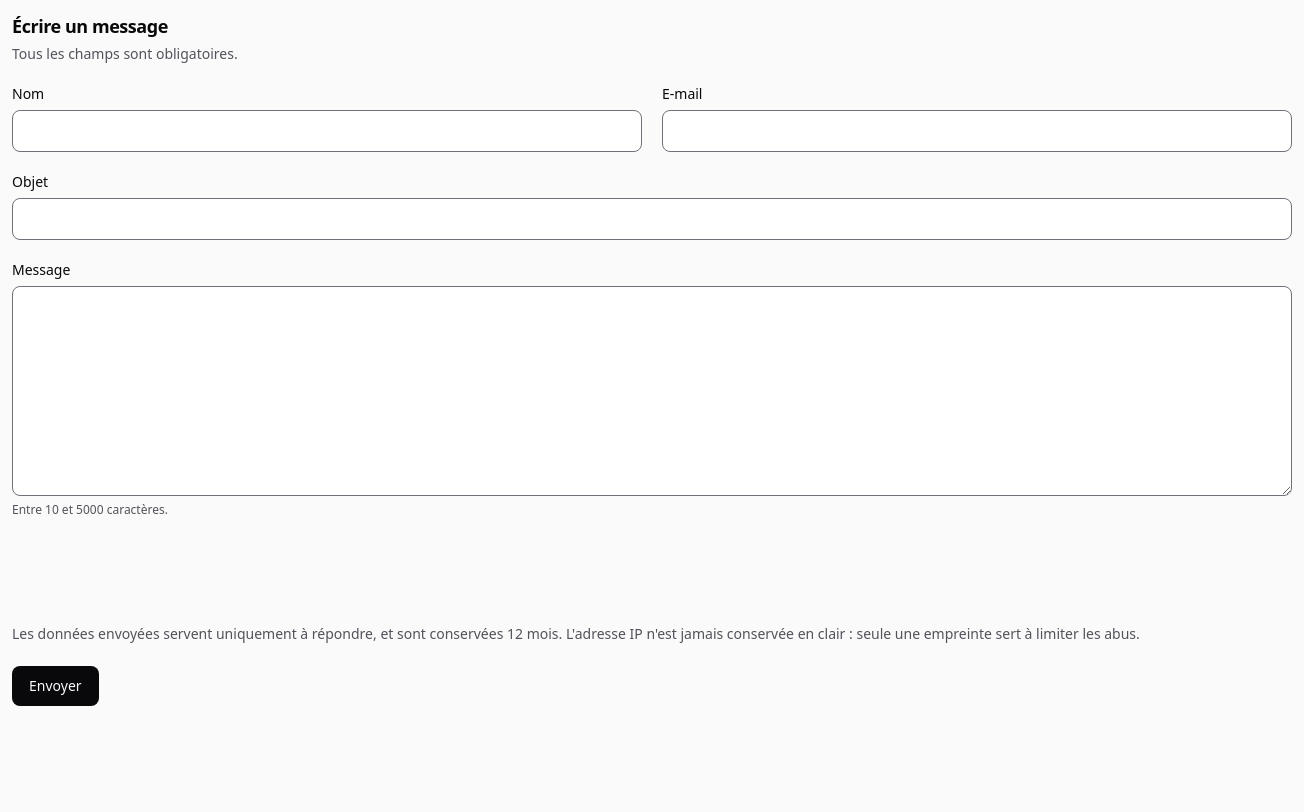
Test: ContactForm › sends the message with the page's locale and the token, then empties the form
The image size is (1304, 812).
In the field labelled "Nom": (327, 131) [12,110,642,152], type "Ada"
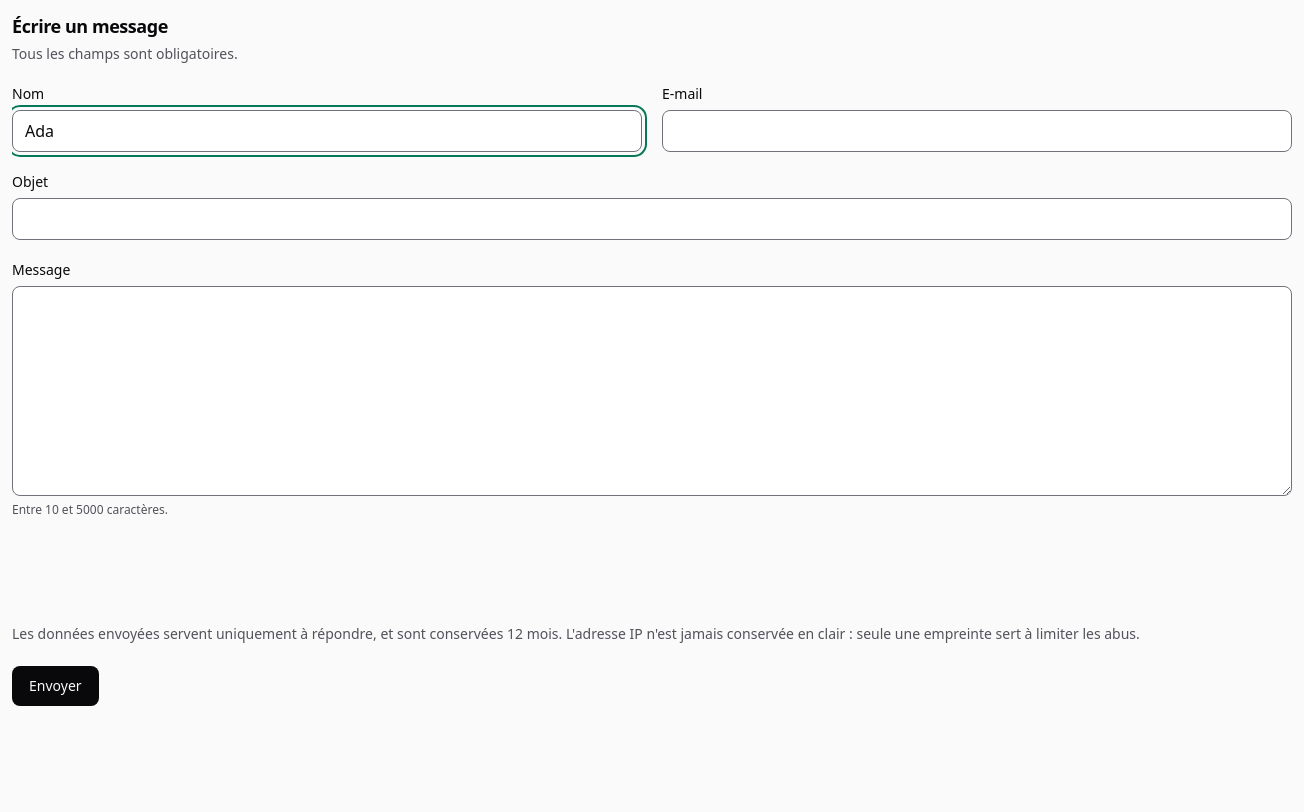
In the field labelled "E-mail": (977, 131) [662,110,1292,152], type "ada@example.com"
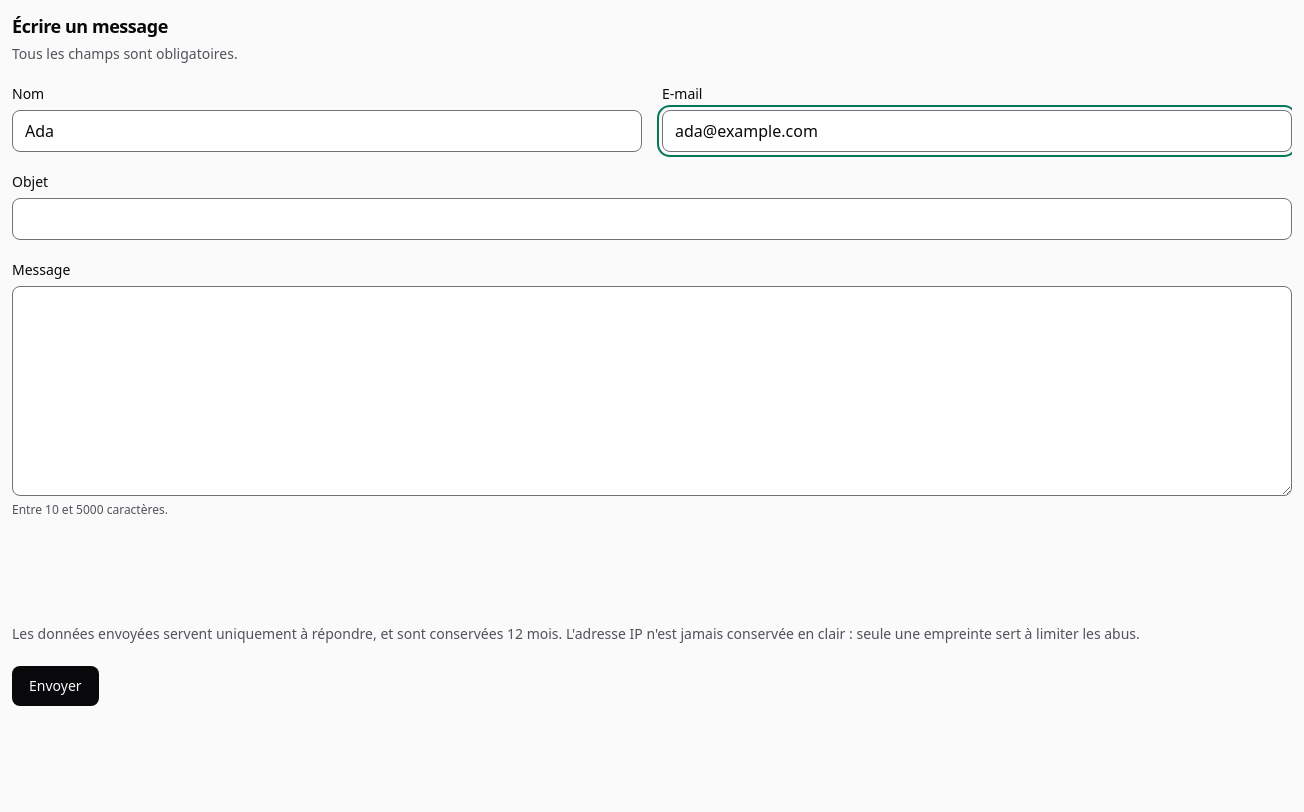
In the field labelled "Objet": (652, 219) [12,198,1292,240], type "Une mission"
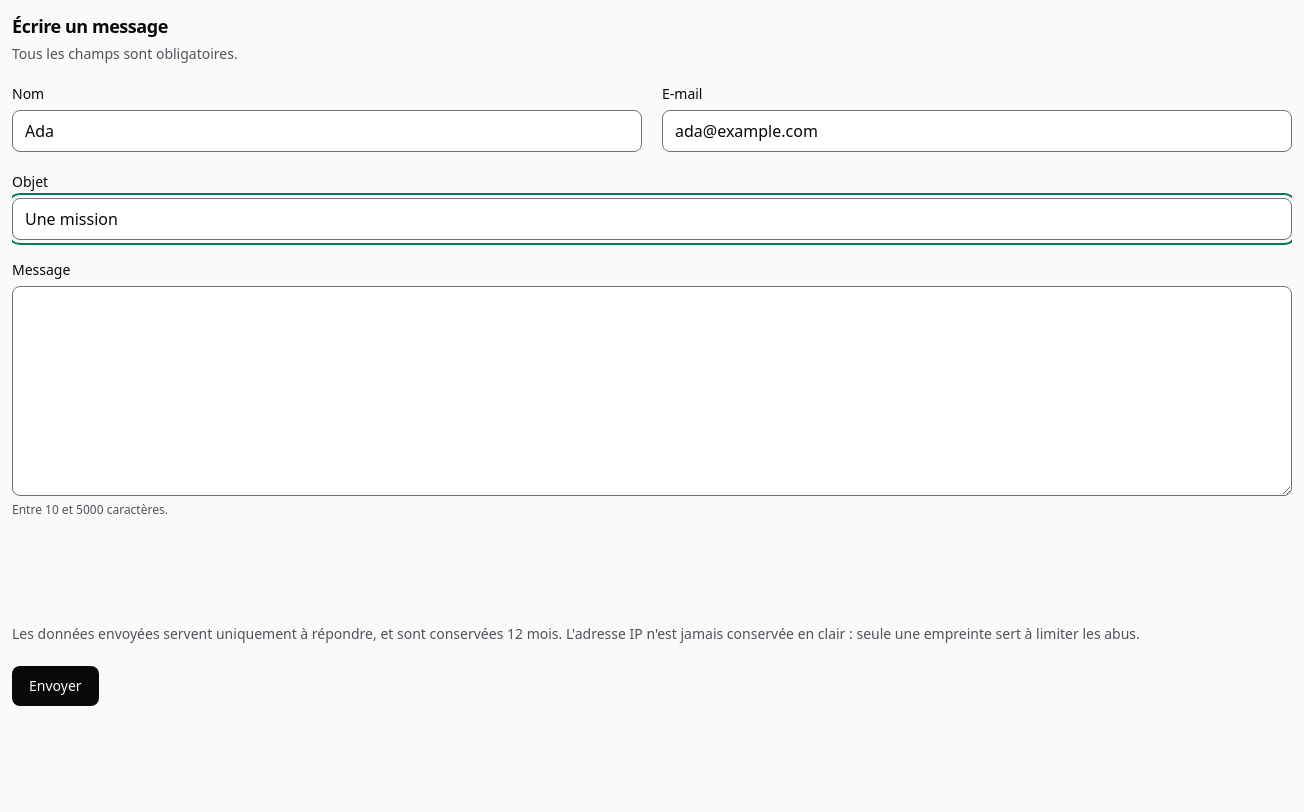
In the text box labelled "Message": (652, 391) [12,286,1292,496], type "Bonjour, j'ai un projet."
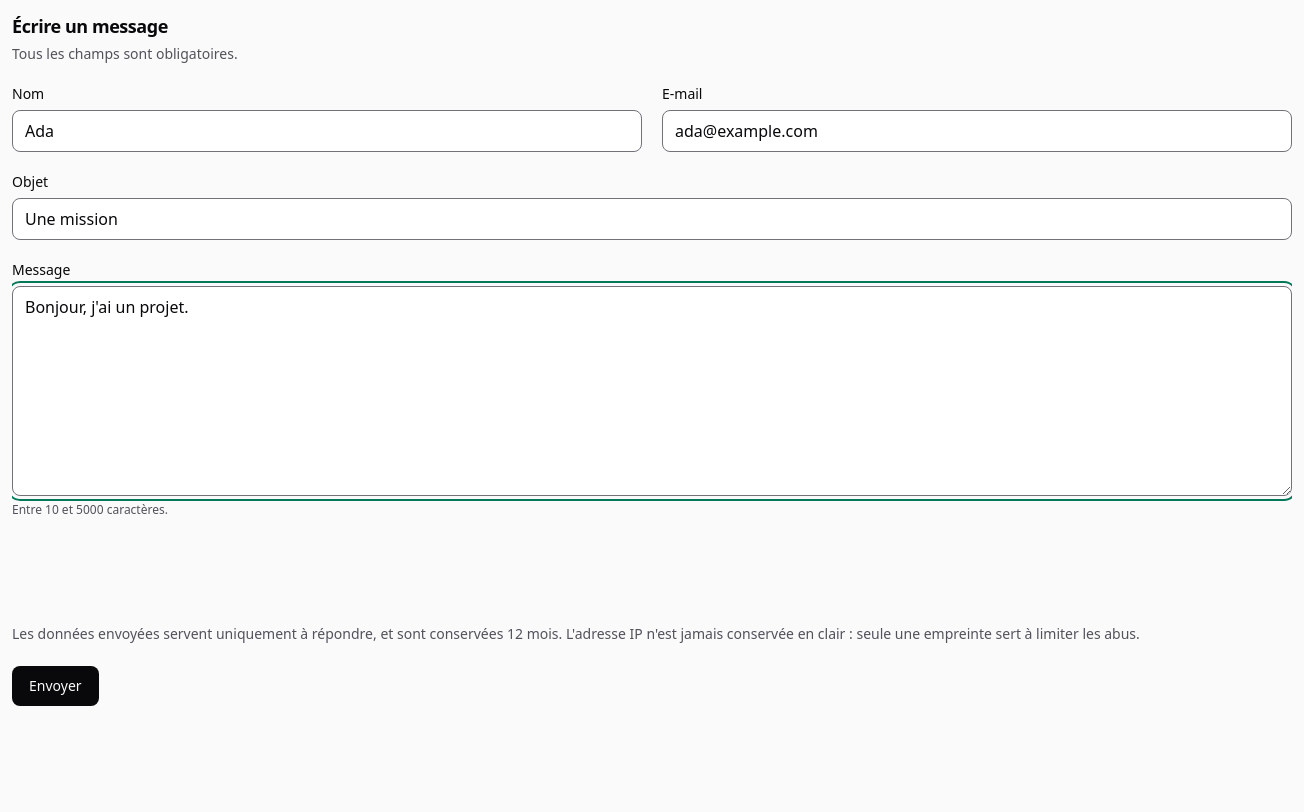
Click the button "Envoyer": click(55, 686) [12,666,99,706]
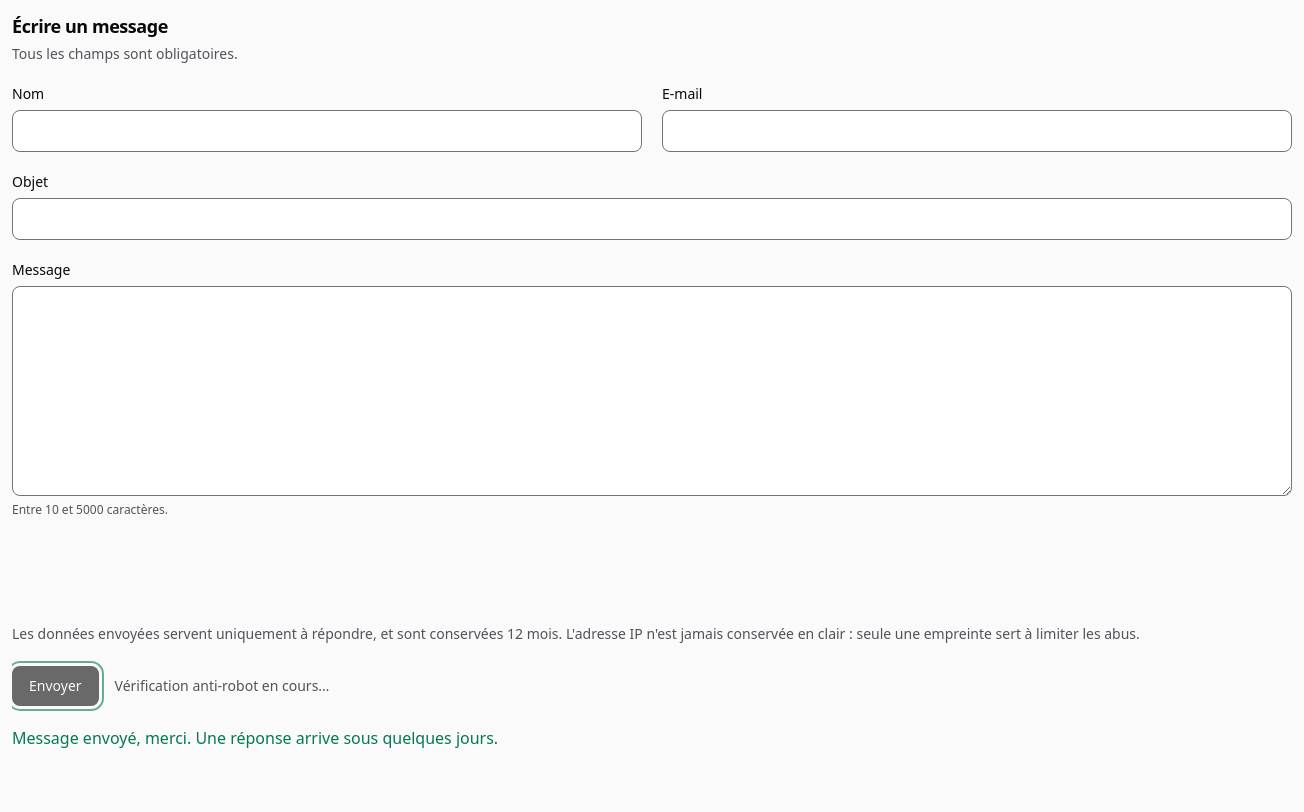
Result: the message shows "Message envoyé, merci." at [12,727,498,749]
Result: the field labelled "Nom" is empty at [12,110,642,152]
